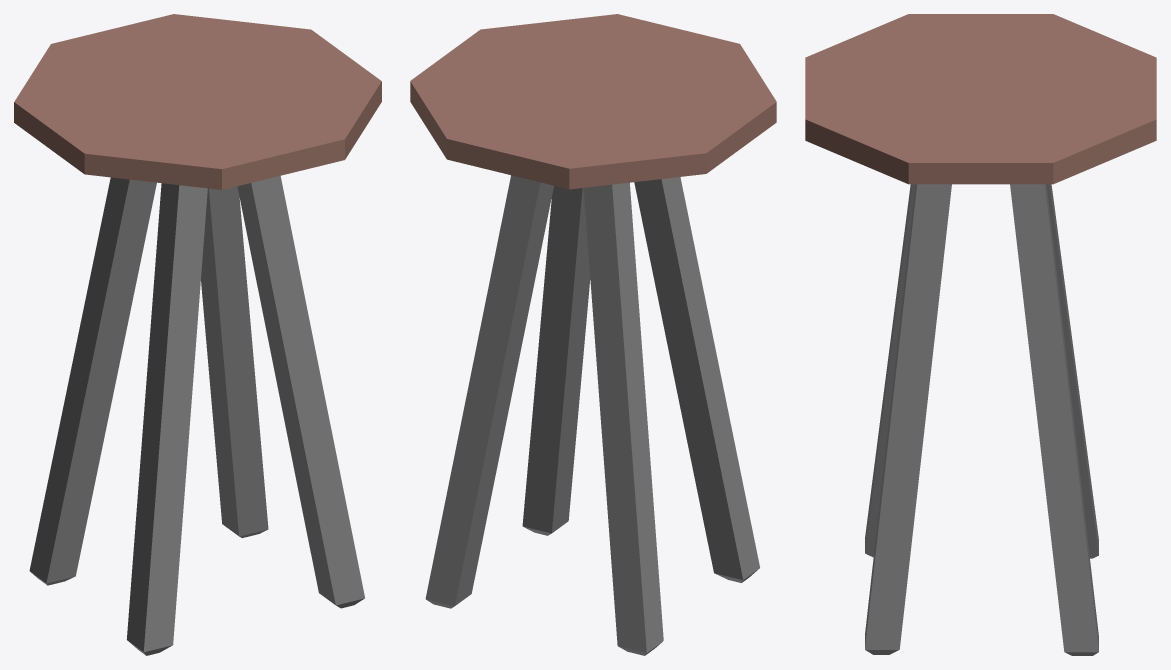
The model's file is Mesita bebe.fbx.
3 views of the same model, side by side, from view 1: azimuth 30°, elevation 25°; view 2: azimuth 150°, elevation 25°; view 3: azimuth 270°, elevation 25° (orthographic). The views are drawn at different scales.
Parts seen in each view (by area): view 1: Mesa; view 2: Mesa; view 3: Mesa.
Part boxes in pixels (box(x1,y1,x2,y2)): Mesa: box(14, 14, 381, 655); Mesa: box(410, 14, 776, 655); Mesa: box(805, 14, 1156, 655).
Size of the model in its own units: 41.43 by 66.71 by 41.32.
